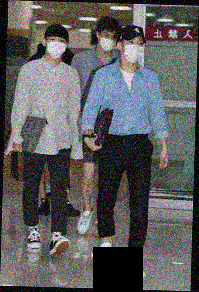with_mask: (122, 35, 145, 63), (45, 36, 67, 59), (97, 30, 118, 52)
